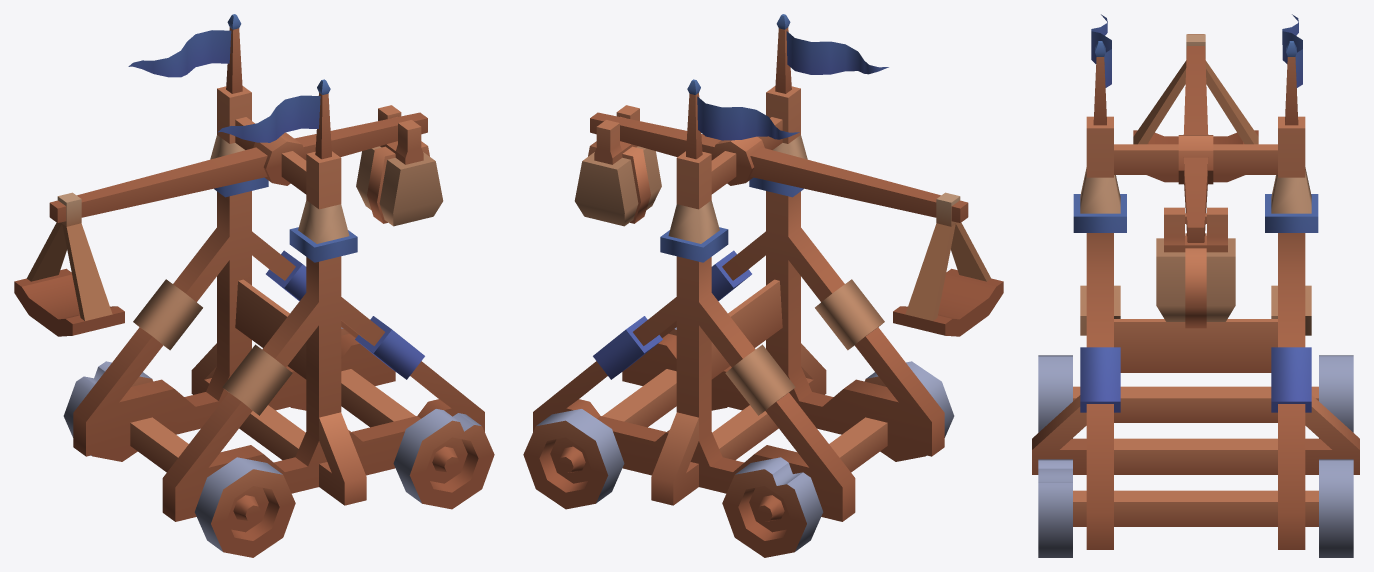
Rendered from siege-trebuchet.glb.
The picture shows the model from 3 angles, left to right: view 1: azimuth 30°, elevation 25°; view 2: azimuth 150°, elevation 25°; view 3: azimuth 270°, elevation 25°; orthographic projection. The views are drawn at different scales.
Parts seen in each view (by area): view 1: siege-trebuchet, wheel (×3), catapult (×2), arm, weight (×2); view 2: siege-trebuchet, wheel (×3), catapult (×2), arm, weight (×2); view 3: siege-trebuchet, wheel (×4), weight (×2), arm, catapult (×2).
Boxes of the visible parts, x1,y1,x2,y2 form: siege-trebuchet: (73, 14, 484, 521); wheel (×3): (63, 361, 494, 557); catapult (×2): (14, 192, 124, 336); arm: (49, 112, 427, 222); weight (×2): (356, 105, 443, 226); siege-trebuchet: (533, 14, 944, 521); wheel (×3): (523, 361, 954, 557); catapult (×2): (893, 192, 1003, 336); arm: (590, 112, 968, 222); weight (×2): (574, 105, 661, 226); siege-trebuchet: (1032, 14, 1359, 549); wheel (×4): (1038, 355, 1353, 557); weight (×2): (1156, 207, 1235, 328); arm: (1178, 34, 1213, 242); catapult (×2): (1133, 34, 1258, 182).
Size of the model in its own units: 1.85 by 1.96 by 1.26.
